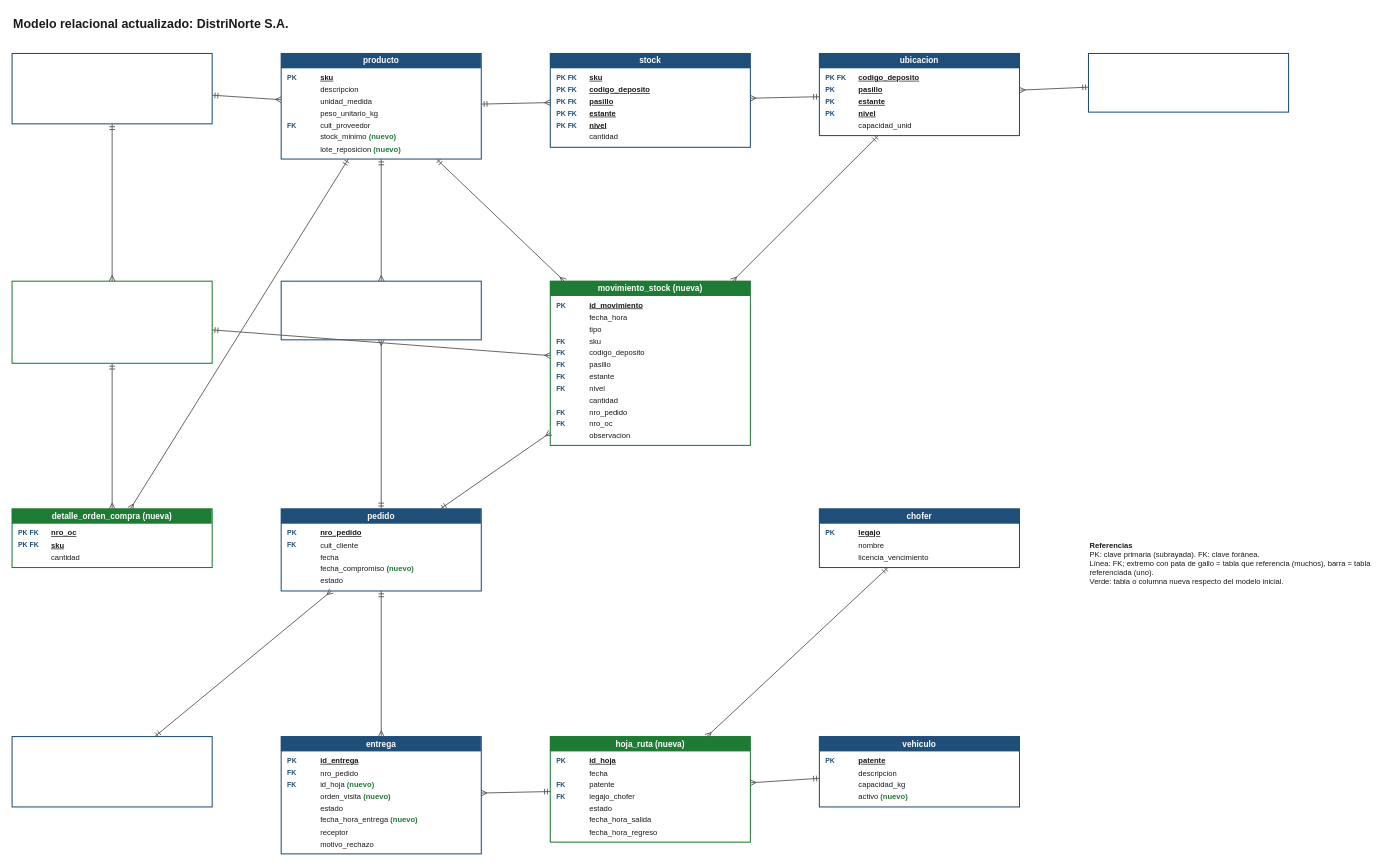
The diagram is 1390 pixels wide and 866 high, and some of its shapes have lost their labels. Each missing label, with the centre of its shape:
cliente PK cuit razon_social direccion_entrega zona: the point at 111,771
deposito PK codigo nombre direccion: the point at 1188,82
detalle_pedido PK FK nro_pedido PK FK sku cantidad: the point at 380,310
orden_compra (nueva) PK nro_oc FK cuit_proveedor fecha estado fecha_recepcion: the point at 111,321
proveedor PK cuit razon_social telefono plazo_entrega_dias (nuevo): the point at 111,88
